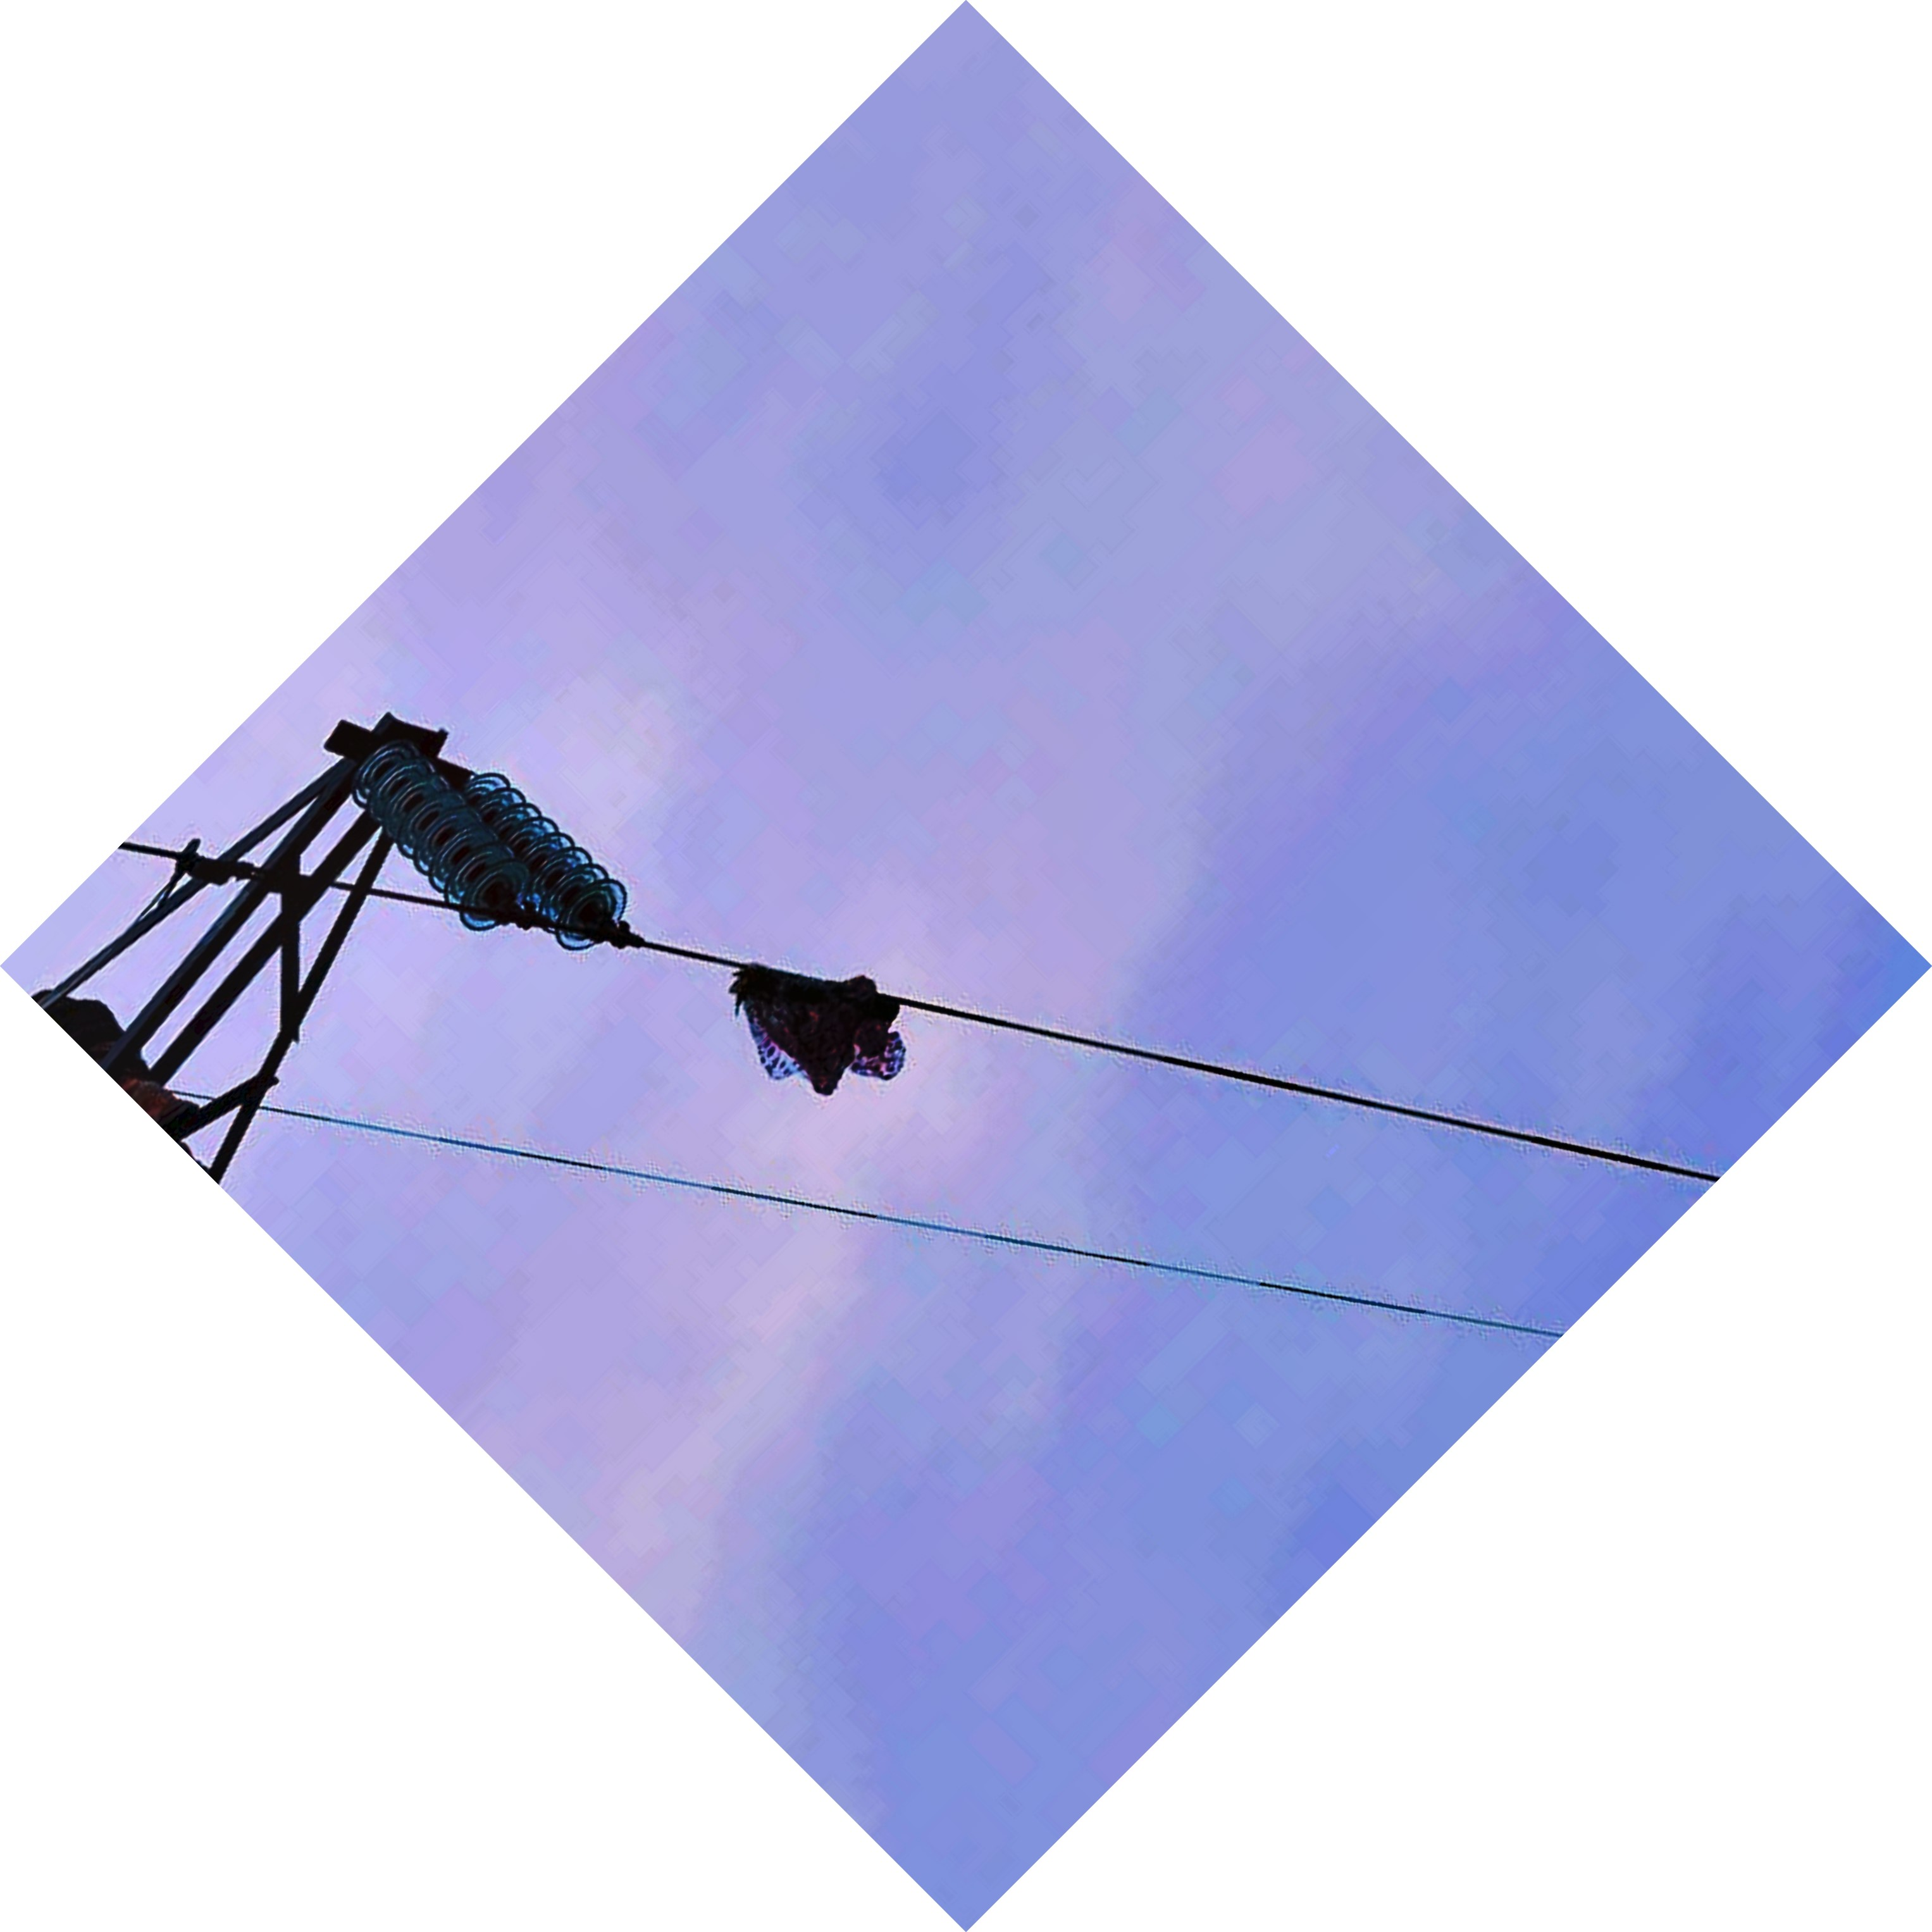wire foreign body: (711, 941, 931, 1116)
